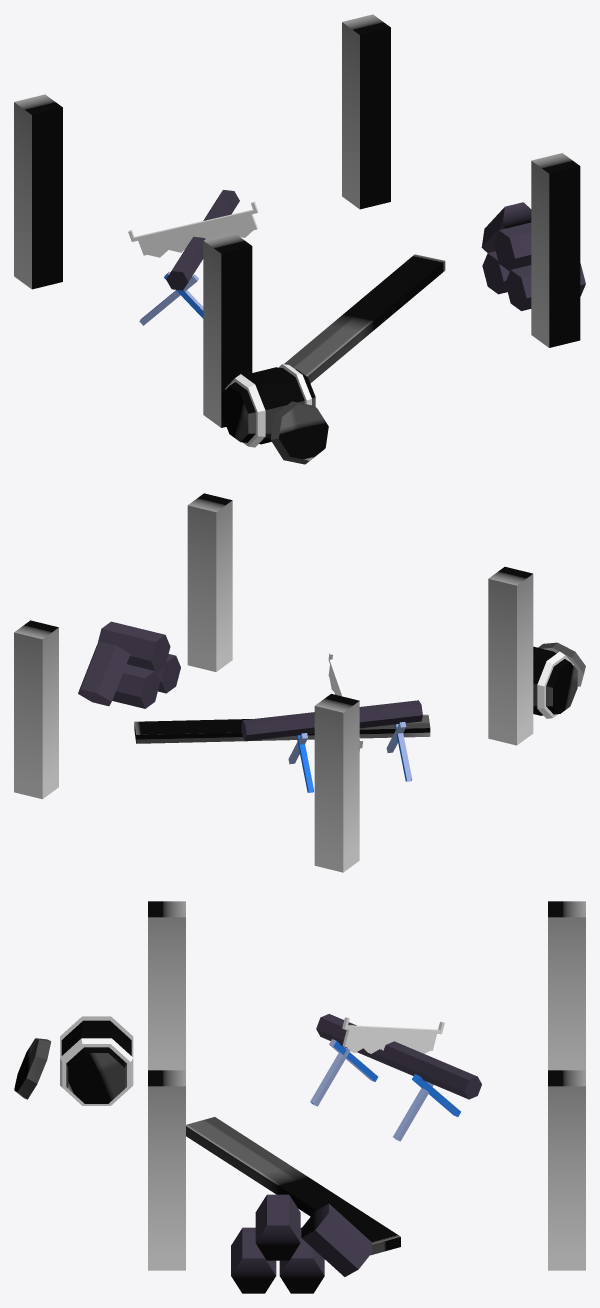
File: HousePhase01.fbx
The picture shows the model from 3 angles, top to bottom: view 1: azimuth 30°, elevation 25°; view 2: azimuth 150°, elevation 25°; view 3: azimuth 270°, elevation 25°; orthographic projection. The views are drawn at different scales.
Visible parts, largest first — view 1: HousePhase01; view 2: HousePhase01; view 3: HousePhase01.
Boxes of the visible parts, bbox=[...] form: HousePhase01: bbox=[14, 14, 585, 464]; HousePhase01: bbox=[14, 493, 585, 872]; HousePhase01: bbox=[14, 901, 585, 1293].
Size of the model in its own units: 190 by 76.21 by 214.
